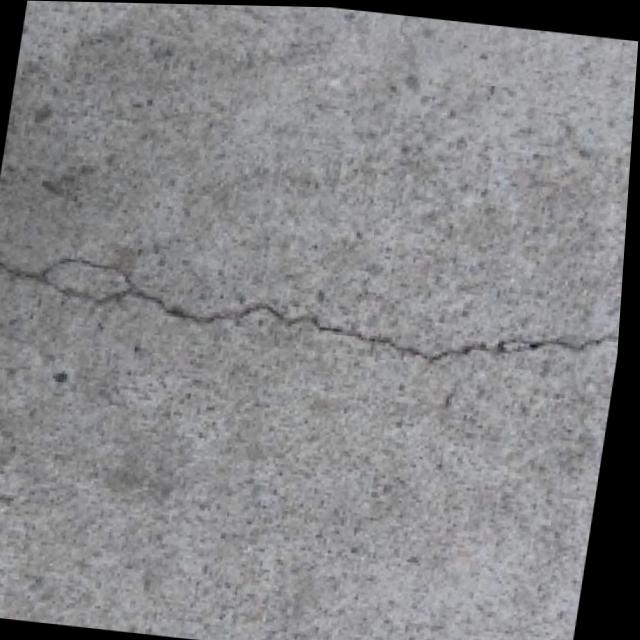Crack: (0, 220, 628, 408)
